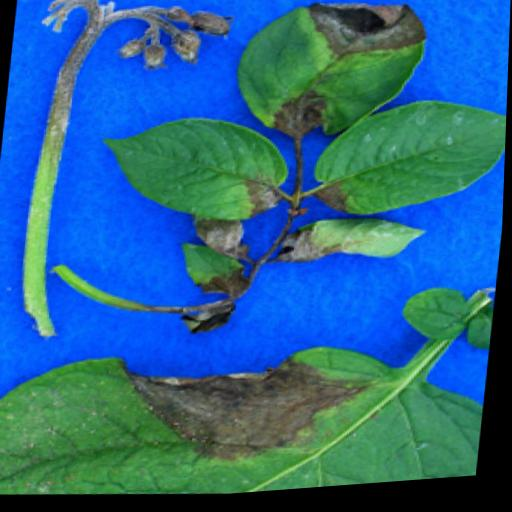Late Blight: (0, 314, 492, 512), (226, 0, 437, 152), (305, 92, 508, 234), (94, 102, 301, 236), (274, 209, 431, 276)
